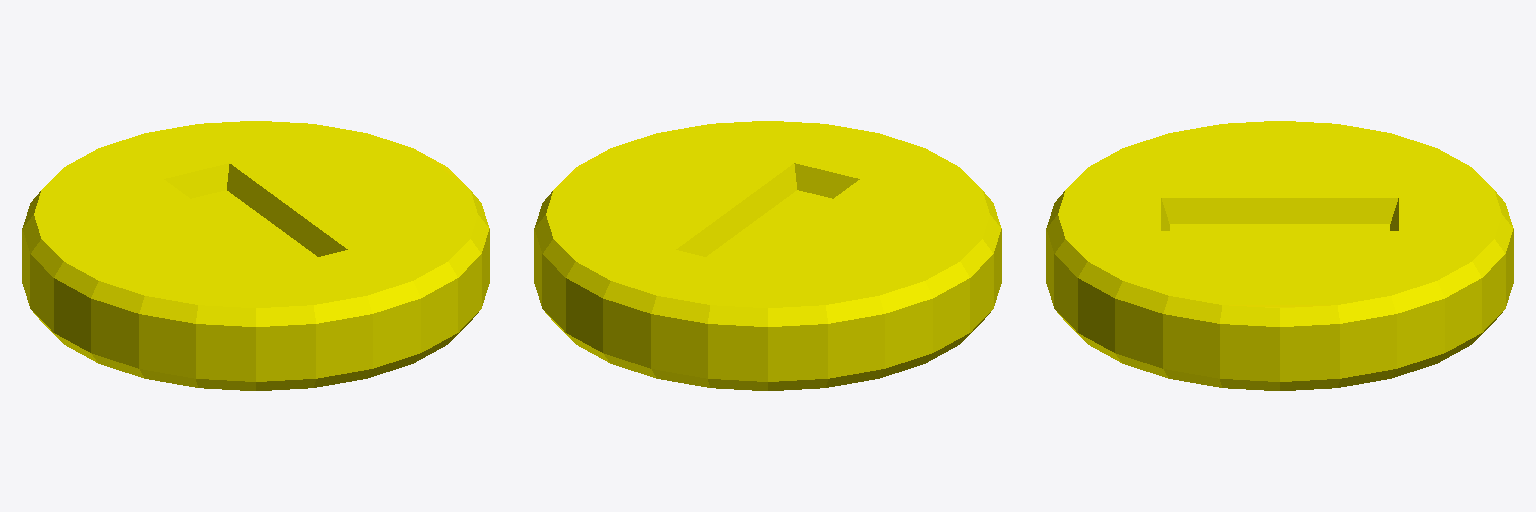
3 views of the same model, side by side, from view 1: azimuth 30°, elevation 25°; view 2: azimuth 150°, elevation 25°; view 3: azimuth 270°, elevation 25° (orthographic).
Parts seen in each view (by area): view 1: Coin_Coin__CoinMat00; view 2: Coin_Coin__CoinMat00; view 3: Coin_Coin__CoinMat00.
Part boxes in pixels (bbox=[...]): Coin_Coin__CoinMat00: bbox=[22, 121, 489, 390]; Coin_Coin__CoinMat00: bbox=[534, 121, 1001, 390]; Coin_Coin__CoinMat00: bbox=[1046, 121, 1513, 390].
Bounding box in the file's own units: 2.14 × 0.4198 × 2.14.
Materials: 1 (1 with a texture image).